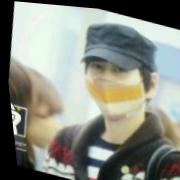WRONG: (75, 41, 151, 124)
